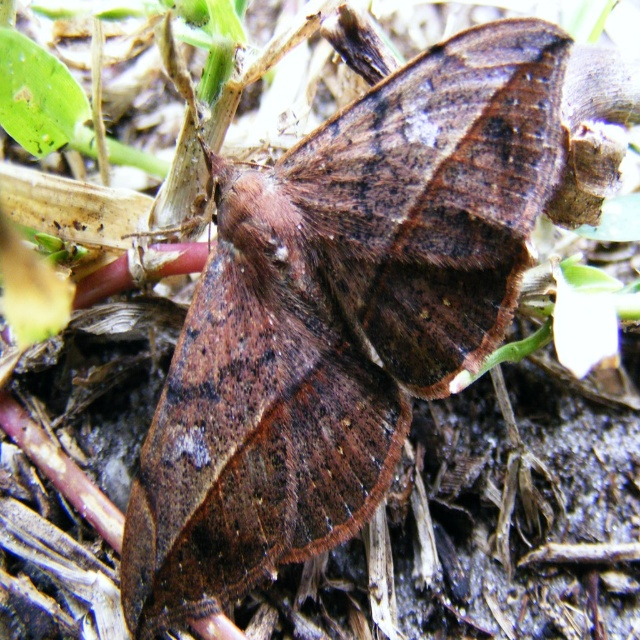Butterfly: (121, 18, 576, 640)
